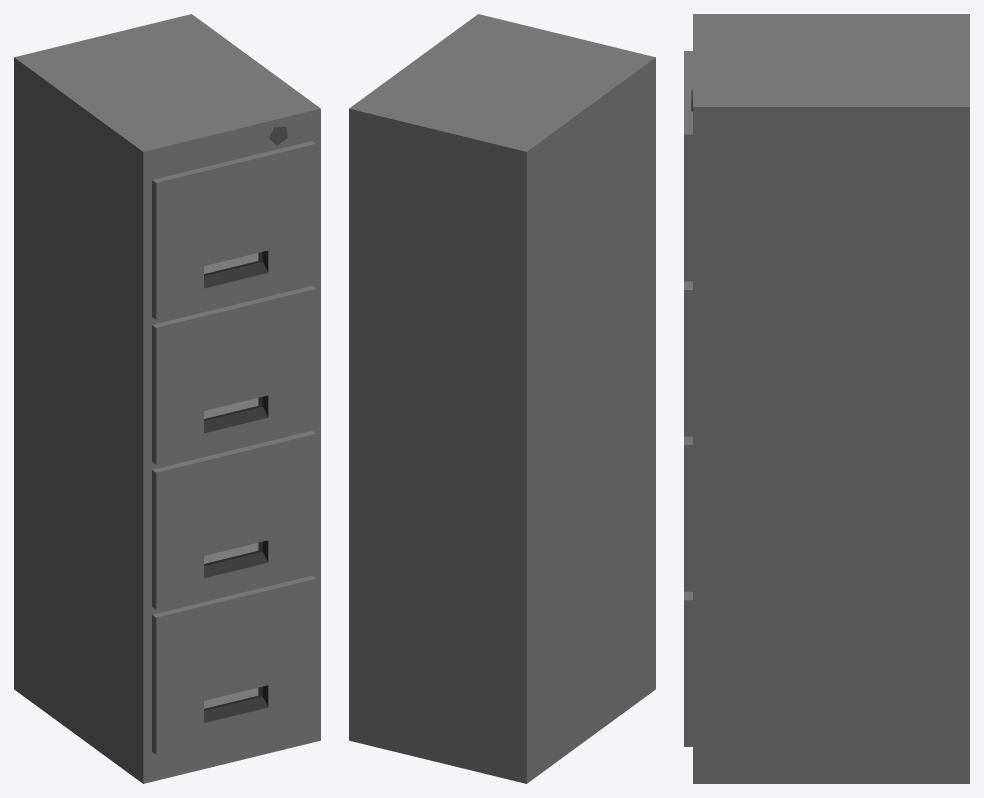
File: Int_OfficeFileCabinet01_1.fbx
3 renders of one model, left to right at view 1: azimuth 30°, elevation 25°; view 2: azimuth 150°, elevation 25°; view 3: azimuth 270°, elevation 25°, orthographic. The views are drawn at different scales.
Visible parts, largest first — view 1: Int_OfficeFileCabinet01_1, Int_OfficeFileCabinetDrawer01, Int_OfficeFileCabinetDrawer04, Int_OfficeFileCabinetDrawer02, Int_OfficeFileCabinetDrawer03; view 2: Int_OfficeFileCabinet01_1; view 3: Int_OfficeFileCabinet01_1, Int_OfficeFileCabinetDrawer01, Int_OfficeFileCabinetDrawer04, Int_OfficeFileCabinetDrawer02, Int_OfficeFileCabinetDrawer03.
Boxes of the visible parts, box(x1,y1,x2,y2) form: Int_OfficeFileCabinet01_1: box(14, 14, 320, 783); Int_OfficeFileCabinetDrawer01: box(152, 141, 316, 319); Int_OfficeFileCabinetDrawer04: box(152, 575, 316, 754); Int_OfficeFileCabinetDrawer02: box(152, 286, 316, 464); Int_OfficeFileCabinetDrawer03: box(152, 431, 316, 609); Int_OfficeFileCabinet01_1: box(349, 14, 655, 783); Int_OfficeFileCabinet01_1: box(691, 14, 969, 783); Int_OfficeFileCabinetDrawer01: box(684, 51, 692, 281); Int_OfficeFileCabinetDrawer04: box(684, 591, 692, 746); Int_OfficeFileCabinetDrawer02: box(684, 281, 692, 436); Int_OfficeFileCabinetDrawer03: box(684, 436, 692, 591).
Size of what is drawn, in the model's own units: 50 by 65 by 170.
